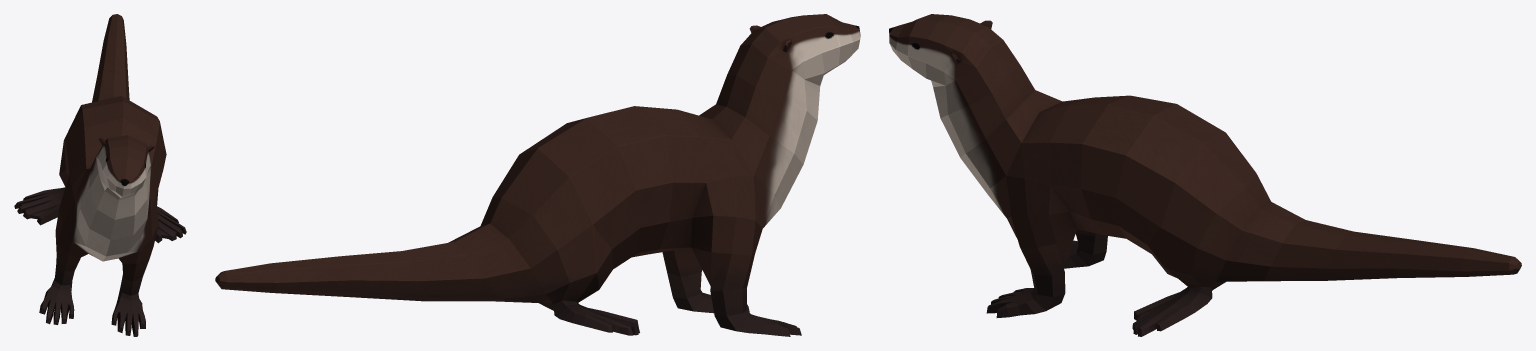
The model's file is otter.glb.
3 views of the same model, side by side, from view 1: azimuth 30°, elevation 25°; view 2: azimuth 150°, elevation 25°; view 3: azimuth 270°, elevation 25° (orthographic). The views are drawn at different scales.
Parts seen in each view (by area): view 1: RiverOtter_Mesh; view 2: RiverOtter_Mesh; view 3: RiverOtter_Mesh.
Part boxes in pixels (bbox=[...]): RiverOtter_Mesh: bbox=[14, 14, 186, 336]; RiverOtter_Mesh: bbox=[215, 14, 860, 336]; RiverOtter_Mesh: bbox=[889, 14, 1521, 336].
Bounding box in the file's own units: 2.9 × 2.29 × 4.78.
Materials: 1 (1 with a texture image).
